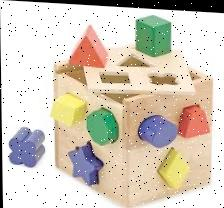cube: (51, 41, 218, 207)
